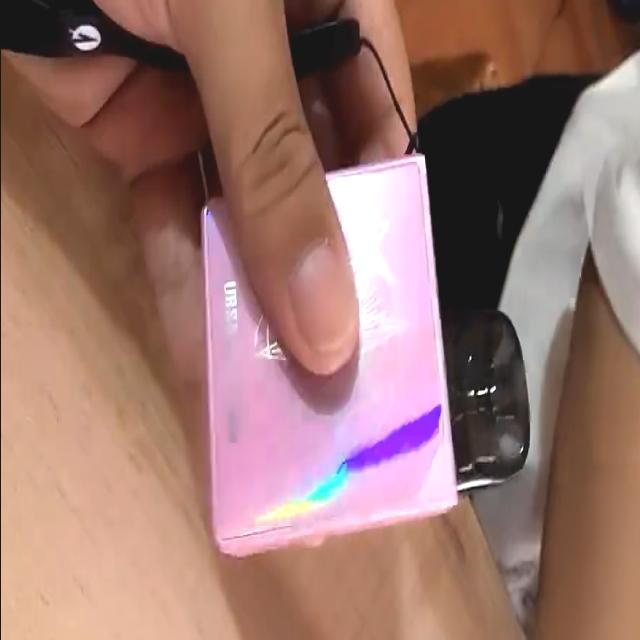Hazard: (203, 150, 535, 564)
